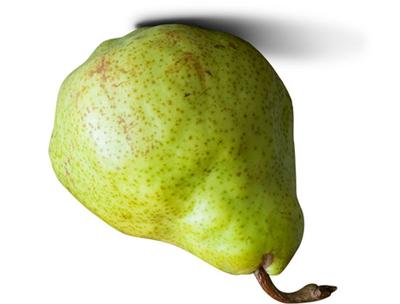pear: (0, 0, 400, 304)
